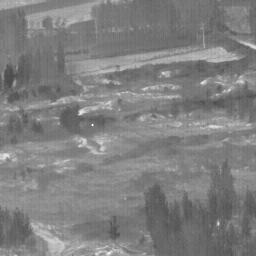aircraft: (92, 124, 94, 126)
